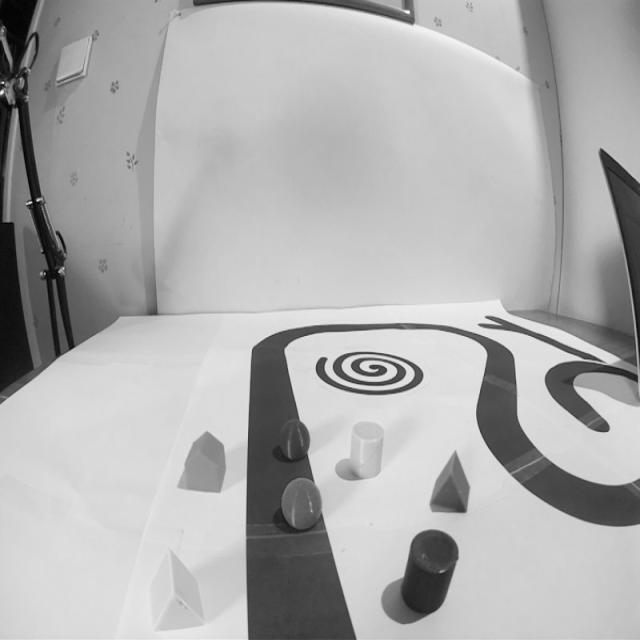ball: (281, 478, 323, 534), (278, 419, 311, 462)
cylinder: (401, 529, 460, 614), (348, 420, 386, 480)
home: (182, 431, 226, 494)
lineStraight: (241, 453, 363, 639)
nest: (316, 349, 425, 394)
triangle: (148, 547, 205, 632), (430, 450, 470, 514)
